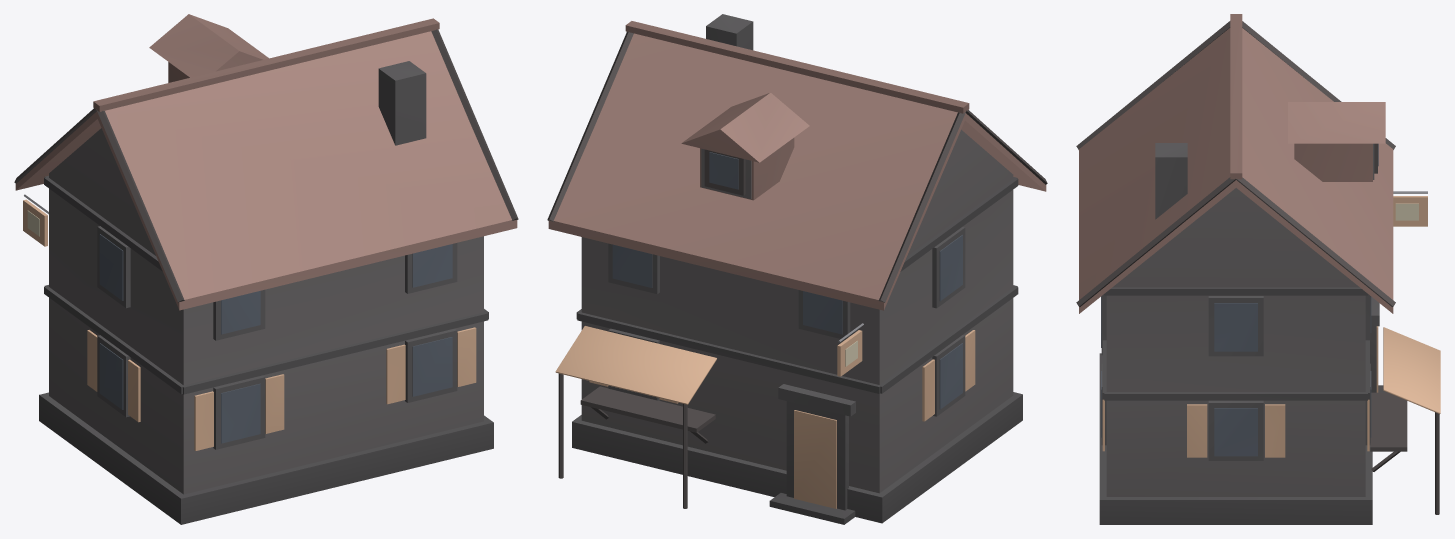
Rendered from shop_cinder.gltf.
The picture shows the model from 3 angles, left to right: view 1: azimuth 30°, elevation 25°; view 2: azimuth 150°, elevation 25°; view 3: azimuth 270°, elevation 25°; orthographic projection. The views are drawn at different scales.
Visible parts, largest first — view 1: Body; view 2: Body; view 3: Body.
Part boxes in pixels (<box>): Body: <box>14,14,518,524</box>; Body: <box>547,14,1047,524</box>; Body: <box>1076,14,1440,524</box>.
Bounding box in the file's own units: 8.17 × 8.54 × 7.88.
